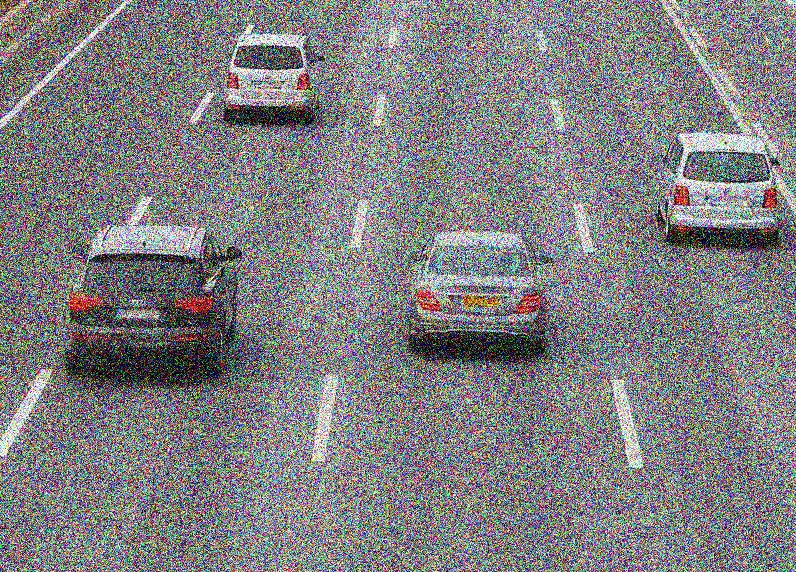car: (59, 208, 268, 393), (381, 208, 565, 380), (639, 115, 796, 282), (199, 20, 337, 152)
